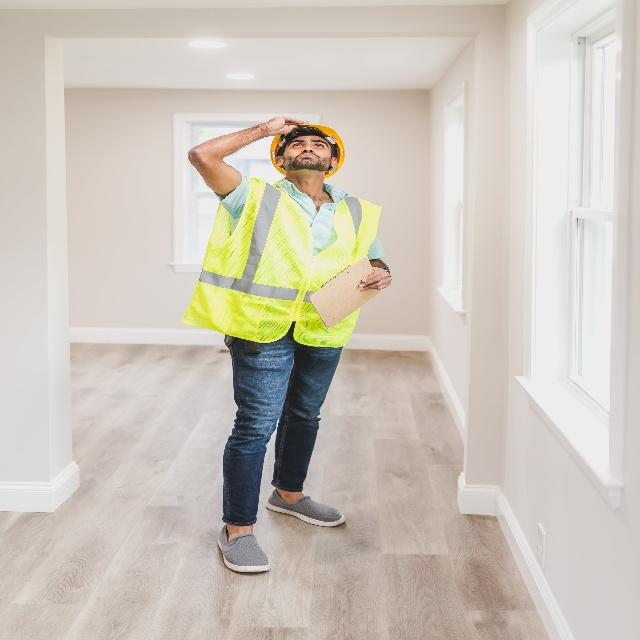Sin_guantes: (357, 269, 392, 293), (269, 114, 304, 136)
